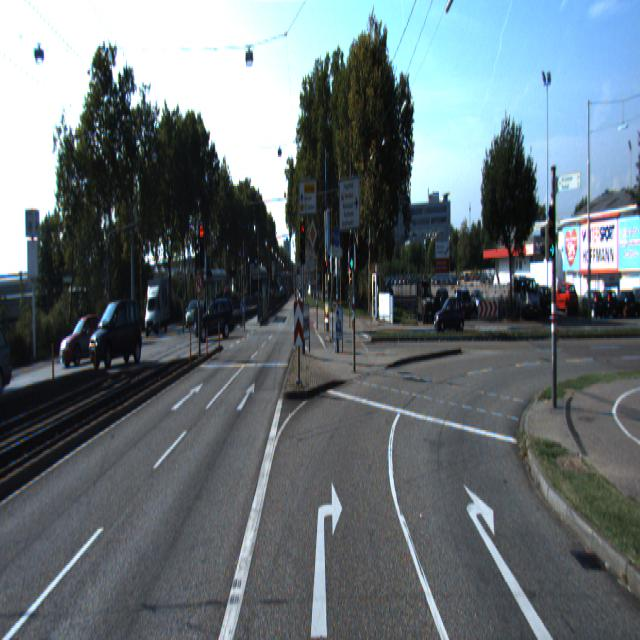Car: (89, 299, 143, 372), (59, 314, 112, 372), (192, 298, 238, 346), (0, 311, 20, 401), (143, 278, 171, 336), (432, 293, 467, 332)
